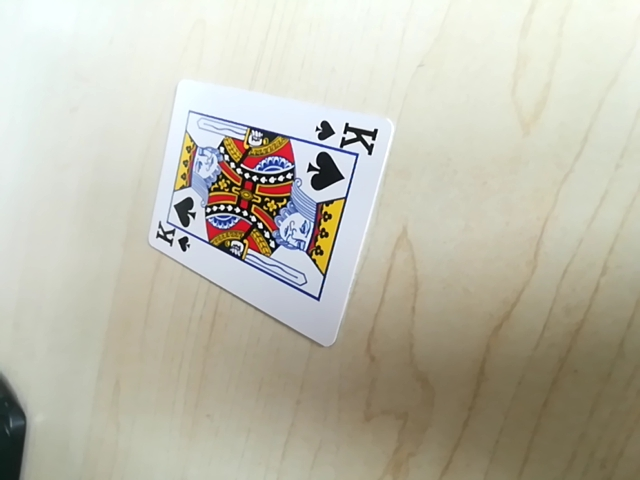ht k: (311, 117, 382, 151), (151, 214, 192, 253)
